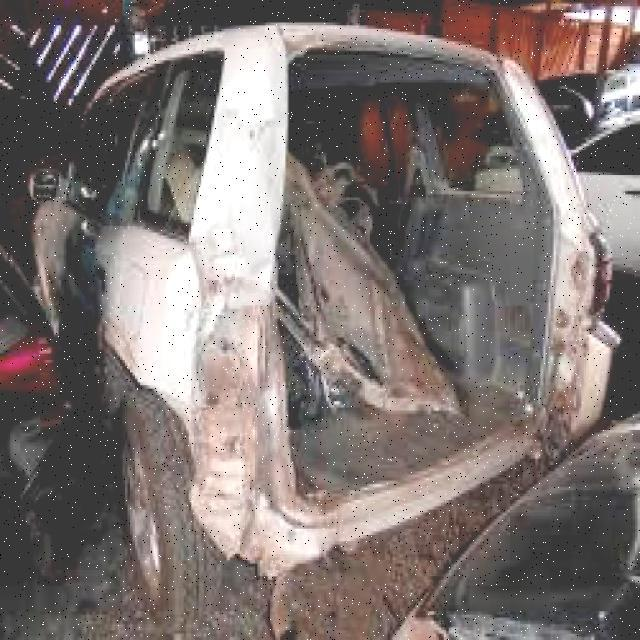car damage: (179, 25, 617, 586)
